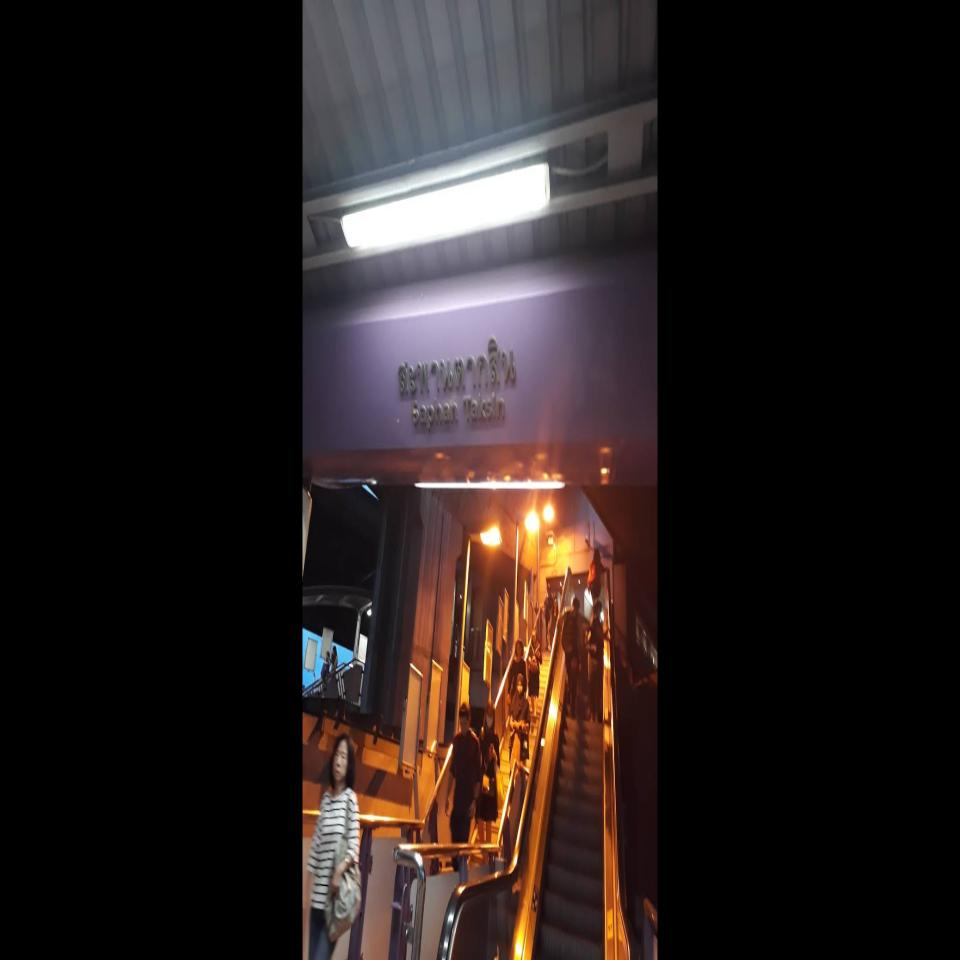Saphan Taksin: (304, 274, 657, 448)
